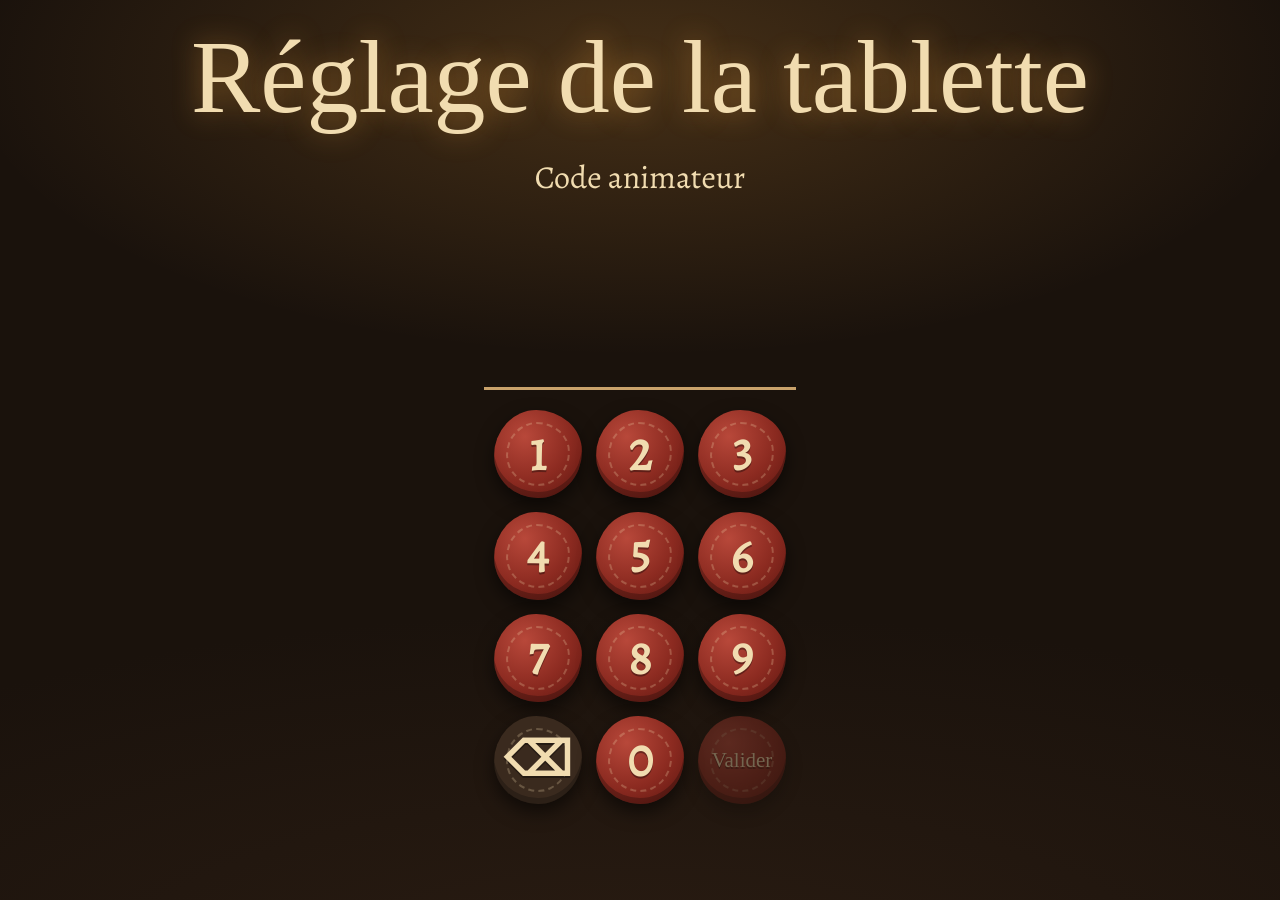
Scenario: TeamSetupScreen › shows the saved evening code
Click the button "2" at (640, 454), box [596,410,684,498]
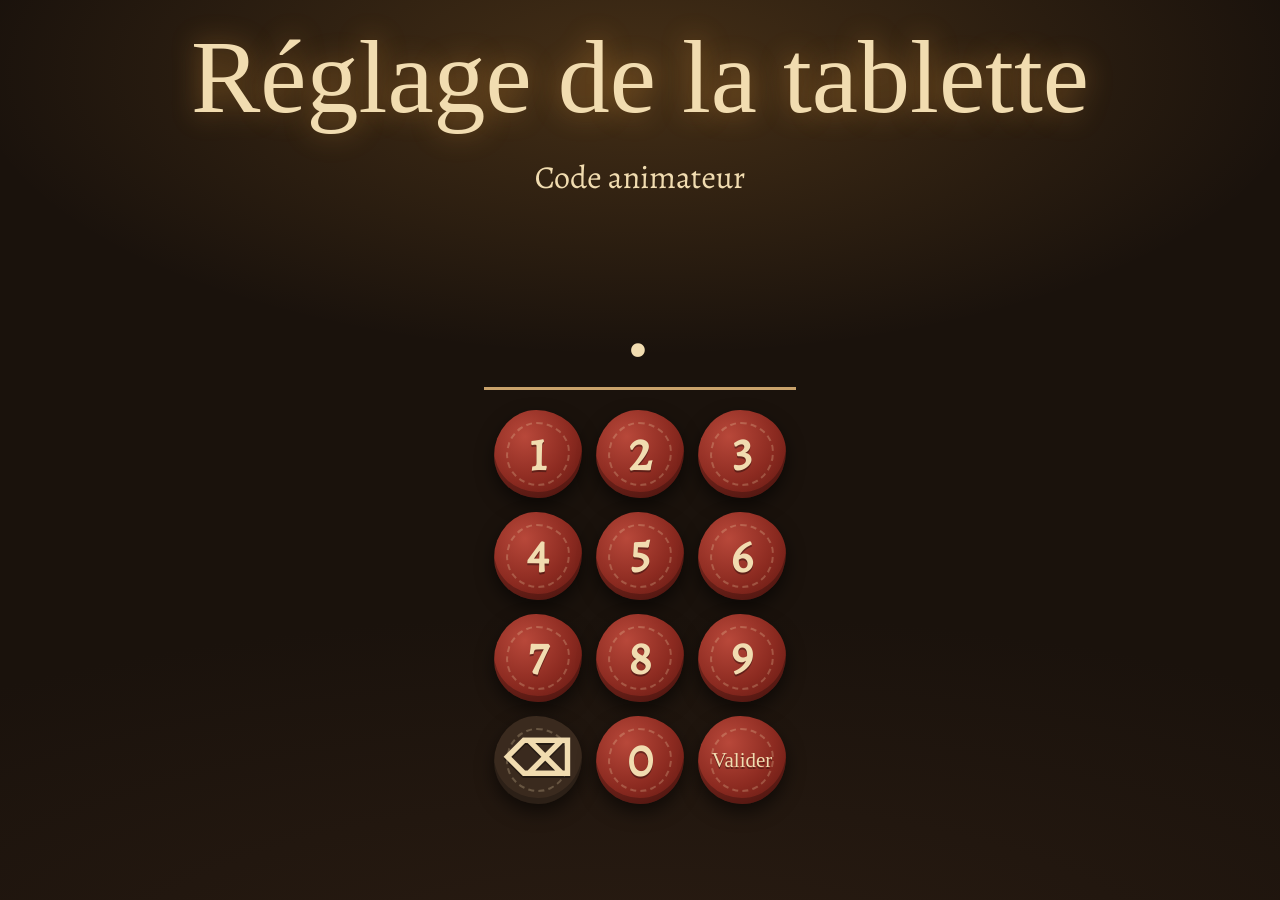
Click the button "7" at (538, 658), box [494,614,582,702]
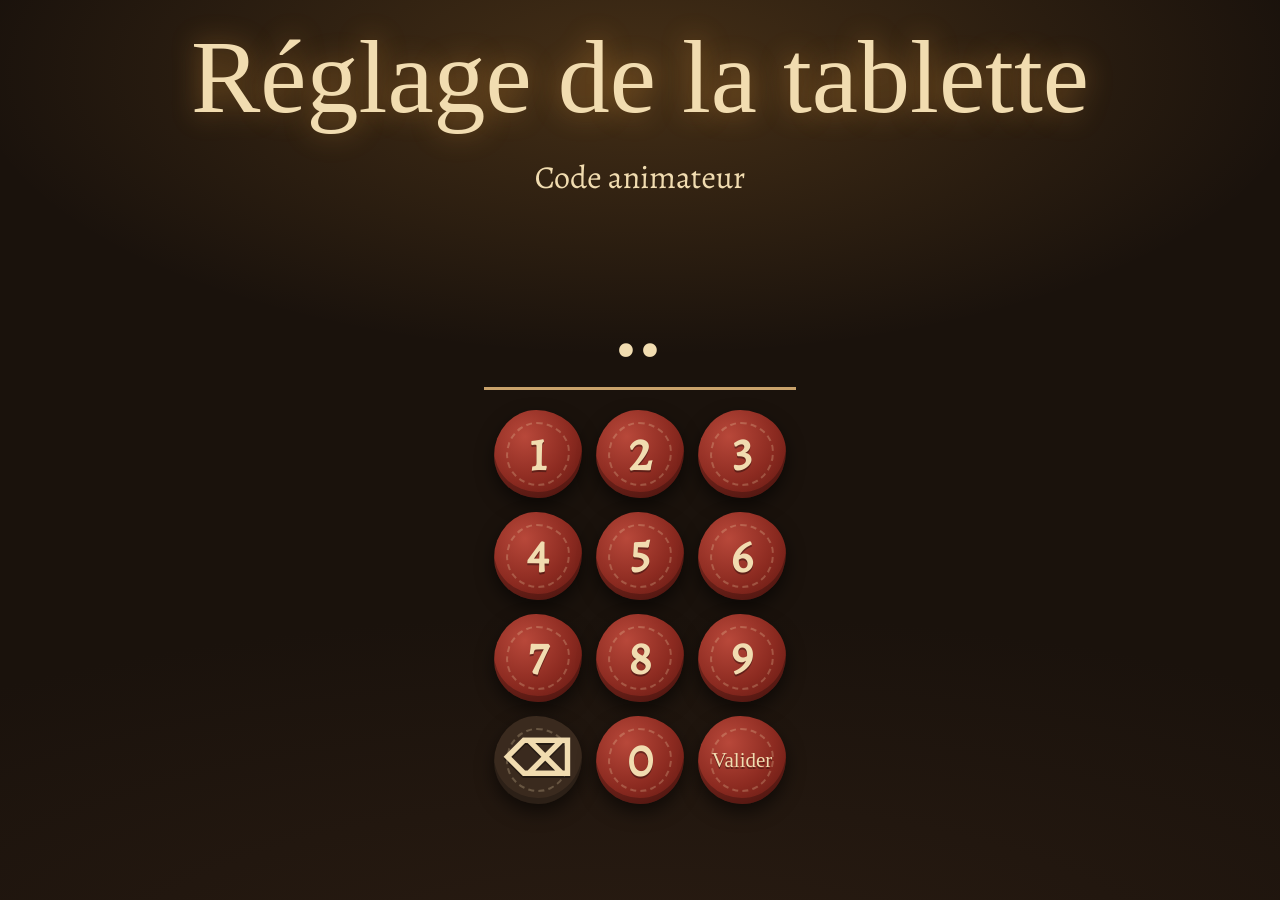
Click the button "1" at (538, 454), box [494,410,582,498]
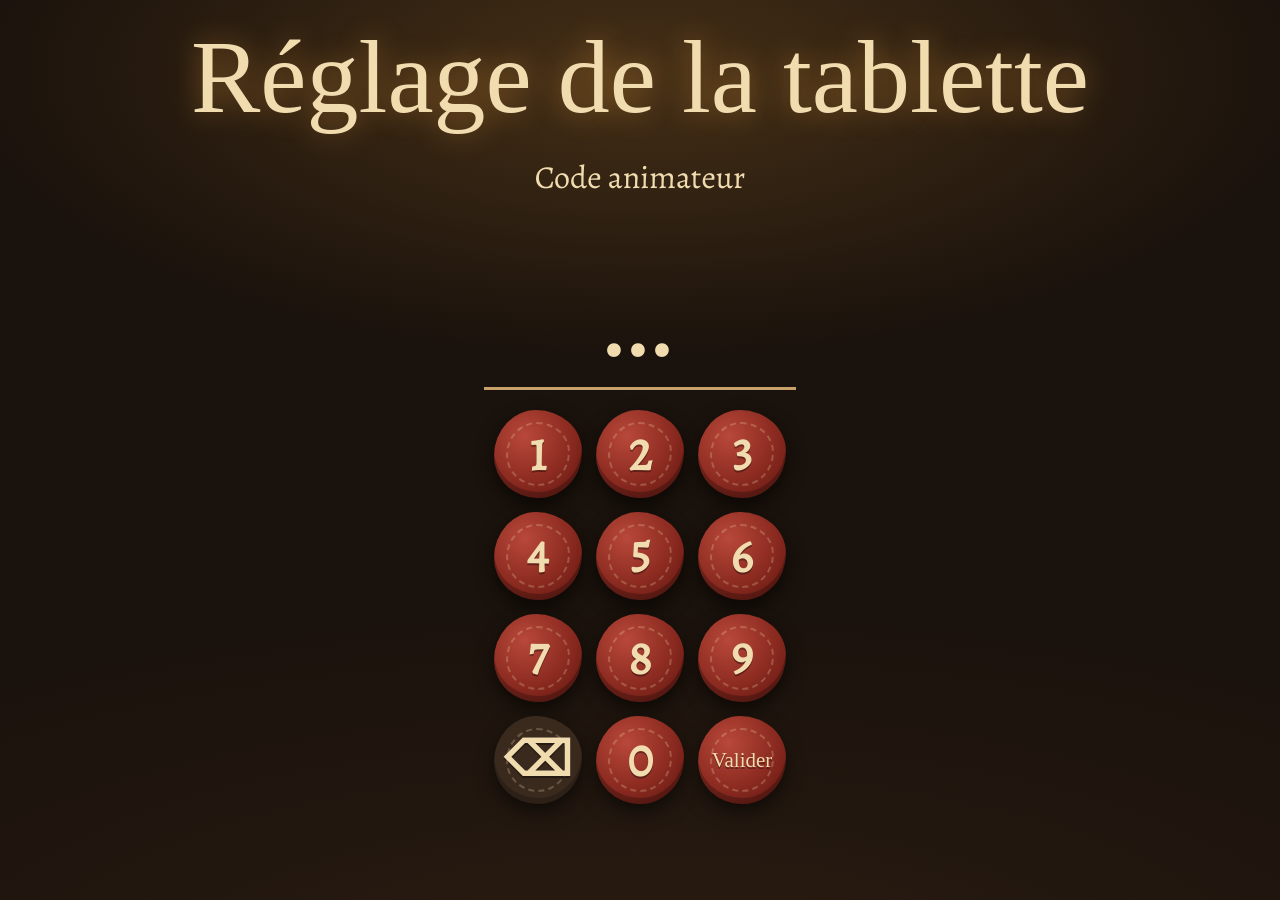
Click the button "0" at (640, 760), box [596,716,684,804]
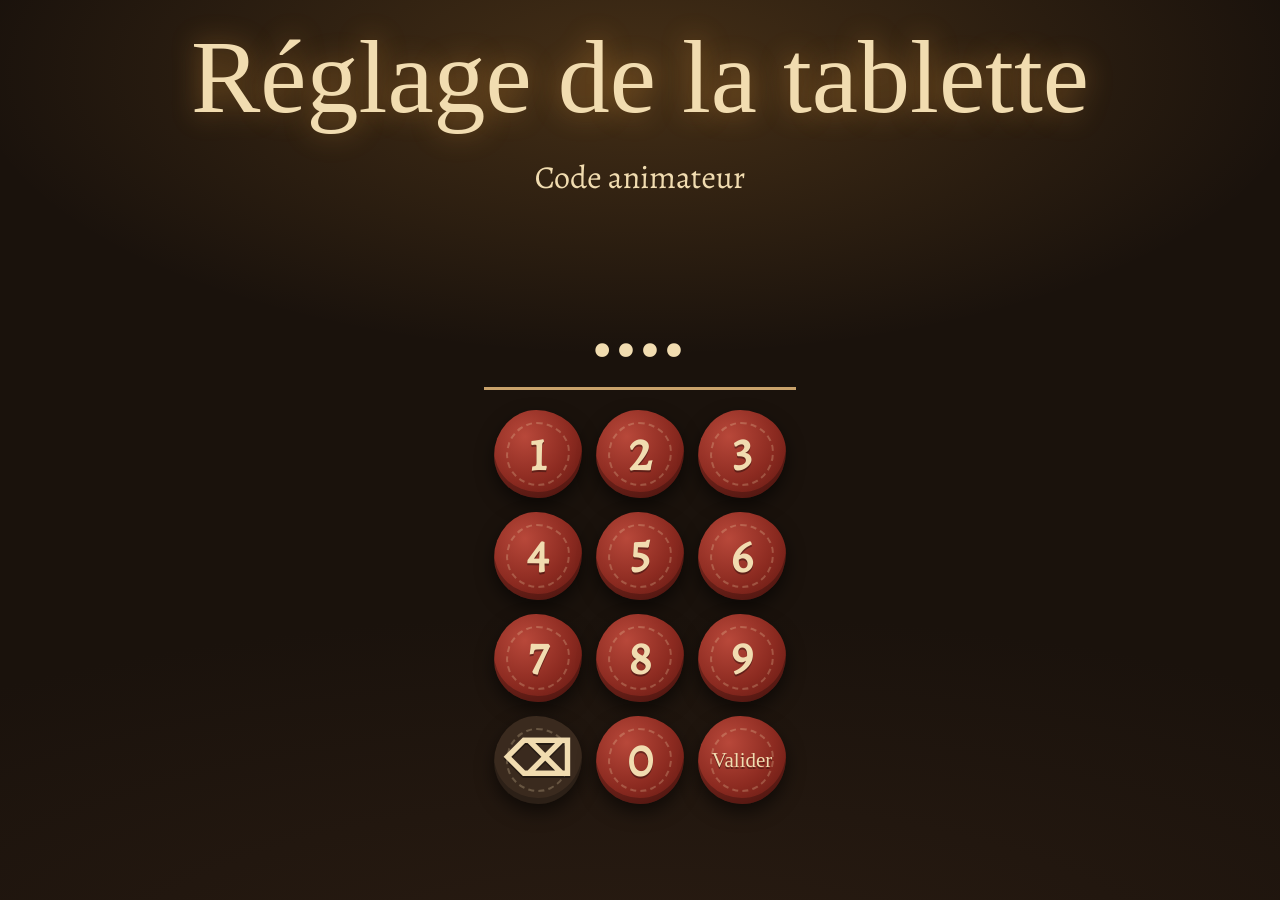
Click the button "Valider" at (742, 760), box [698,716,786,804]
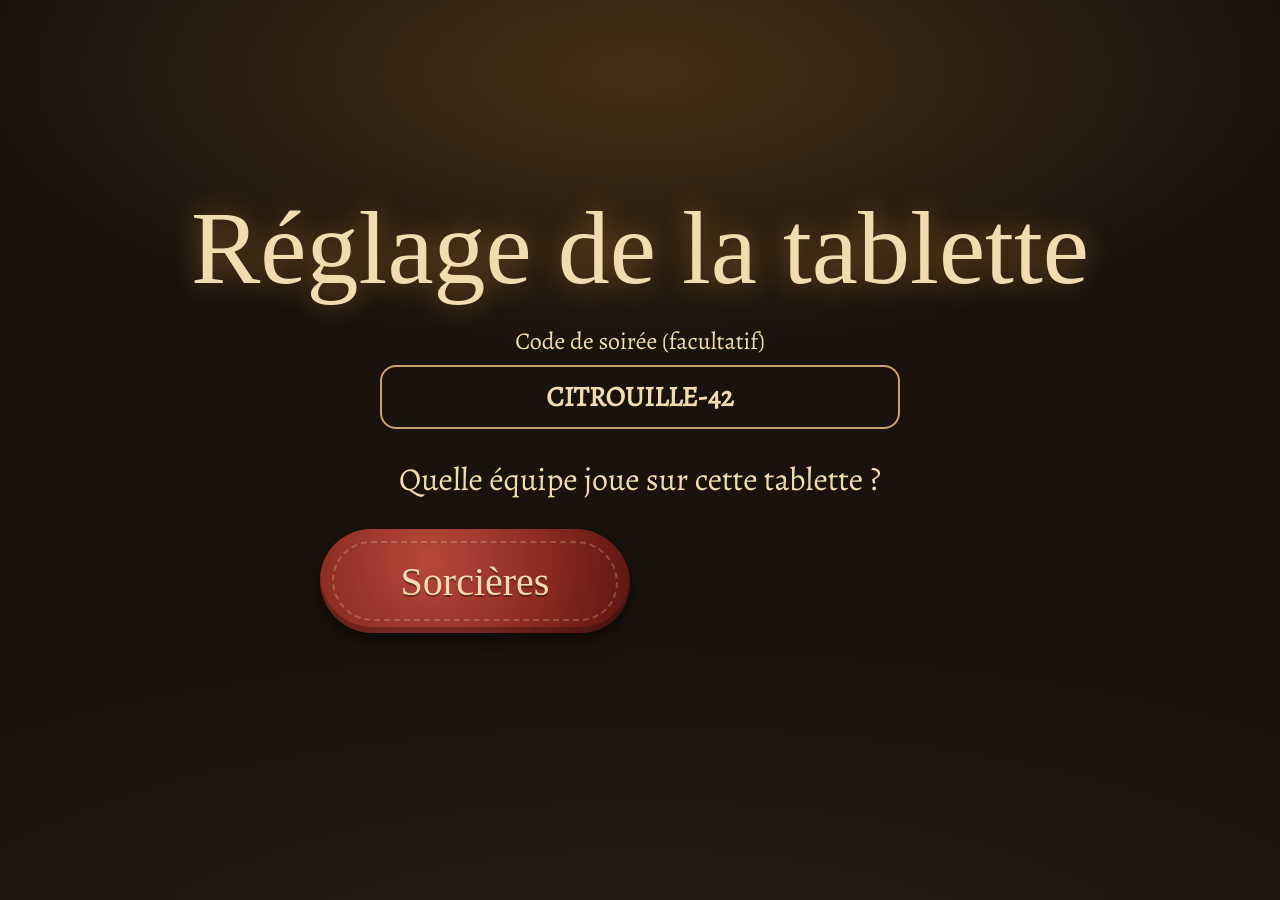
Expected: the field labelled "Code de soirée (facultatif)" holds "CITROUILLE-42", [380,365,900,429]
